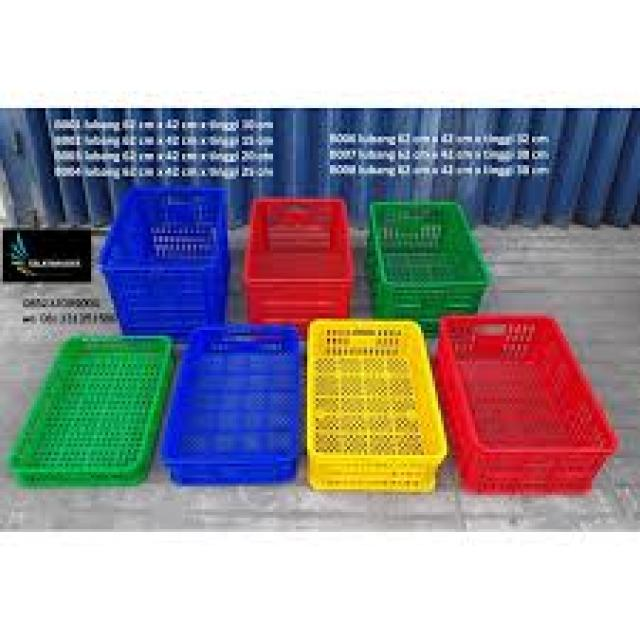basket: (4, 307, 183, 518), (436, 313, 622, 500), (307, 321, 449, 494), (160, 327, 306, 487), (102, 188, 230, 337), (370, 202, 492, 336), (245, 199, 356, 333)
